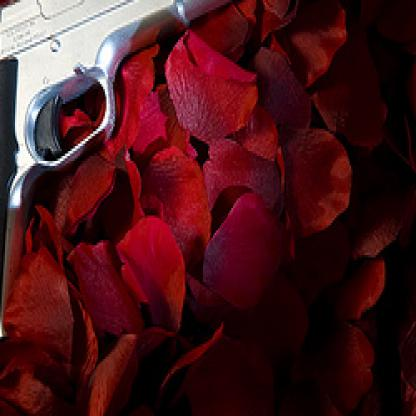gun: (0, 0, 265, 379)
